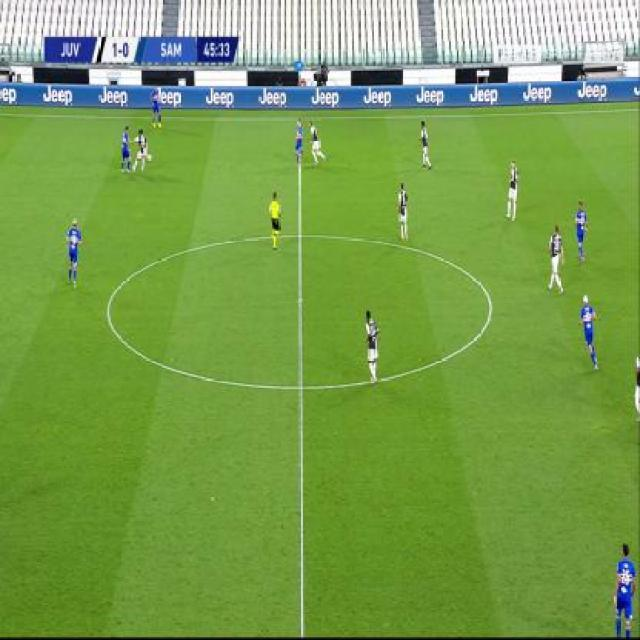ball: (147, 153, 153, 162)
player: (611, 538, 639, 640), (578, 292, 600, 372), (362, 306, 381, 383), (65, 215, 84, 288), (547, 224, 566, 295), (574, 199, 590, 264), (505, 156, 521, 221), (133, 126, 153, 174), (306, 117, 325, 166), (268, 189, 282, 251), (396, 181, 410, 240), (417, 119, 431, 170), (120, 122, 133, 173), (149, 84, 163, 130), (632, 348, 640, 421), (293, 116, 304, 169)
